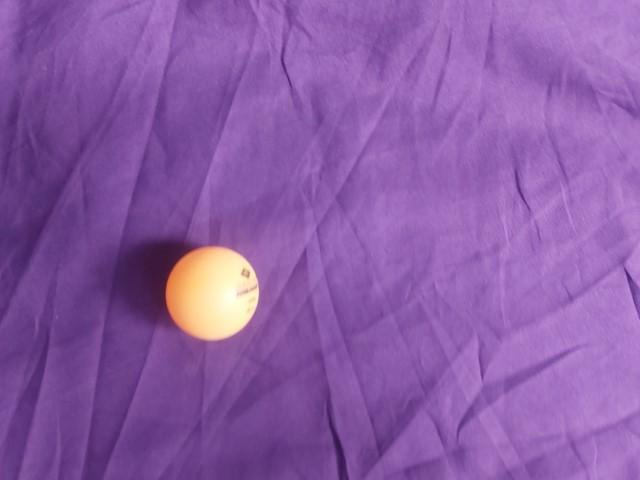oball: (375, 134, 479, 239)
